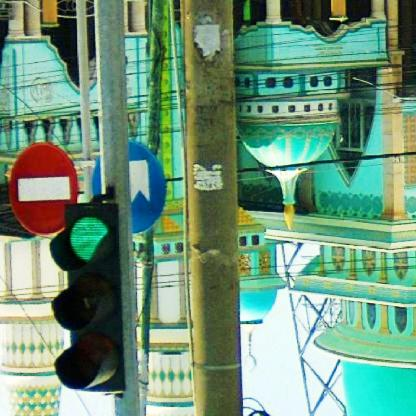Traffic Light -Green-: (51, 202, 119, 393)
